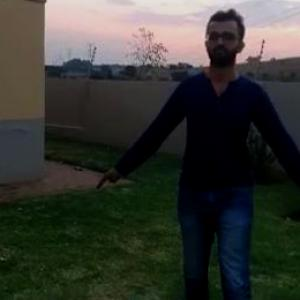land: (118, 14, 299, 286)
